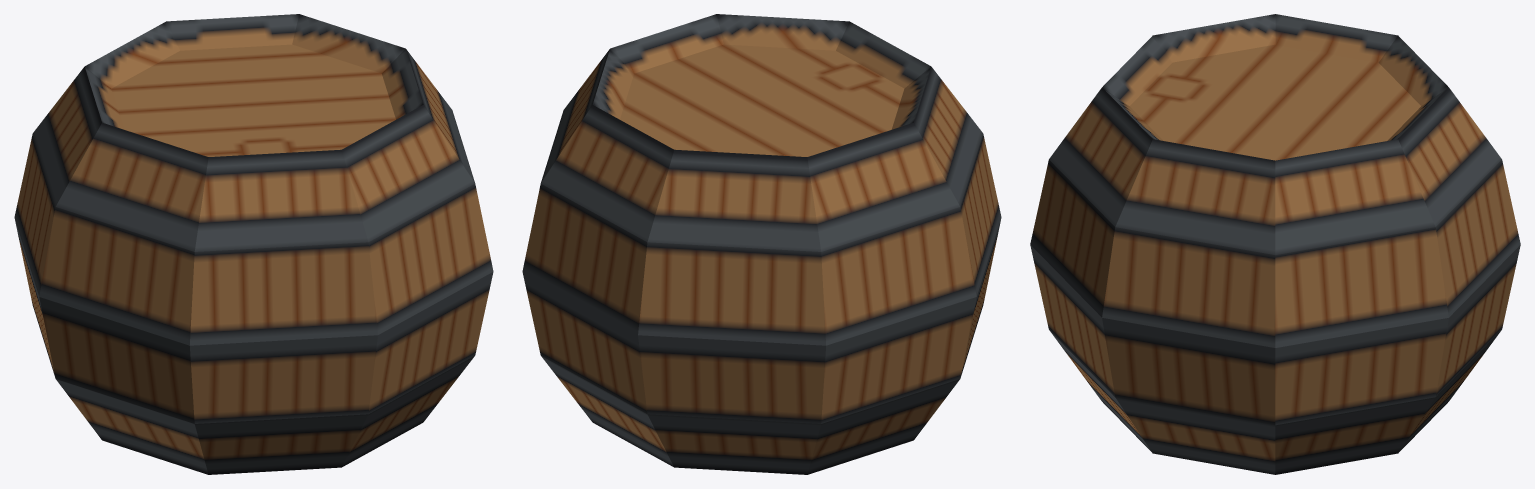
Rendered from Barrel.glb.
3 renders of one model, left to right at view 1: azimuth 30°, elevation 25°; view 2: azimuth 150°, elevation 25°; view 3: azimuth 270°, elevation 25°, orthographic.
Visible parts, largest first — view 1: Sphere; view 2: Sphere; view 3: Sphere.
Boxes of the visible parts, left/top/right/bottom form: Sphere: left=14, top=14, right=493, bottom=474; Sphere: left=522, top=14, right=1001, bottom=474; Sphere: left=1030, top=14, right=1520, bottom=474.
Size of the model in its own units: 1.29 by 0.9092 by 1.29.
Materials: 1 (1 with a texture image).
